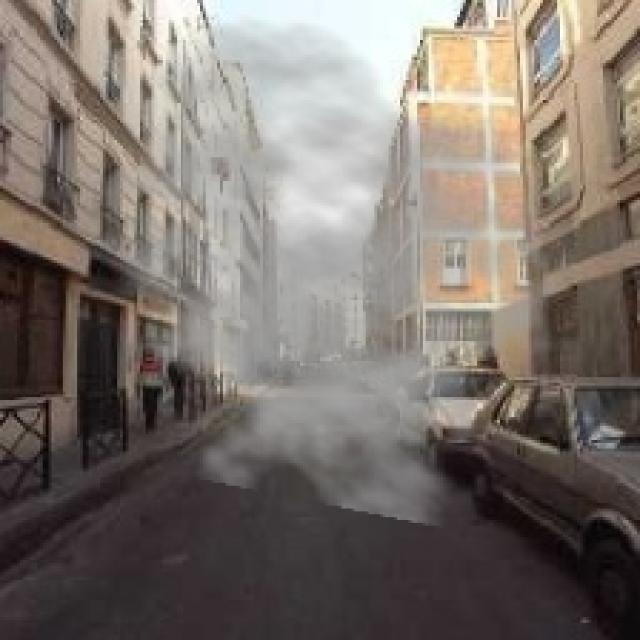smoke: (60, 14, 580, 529)
